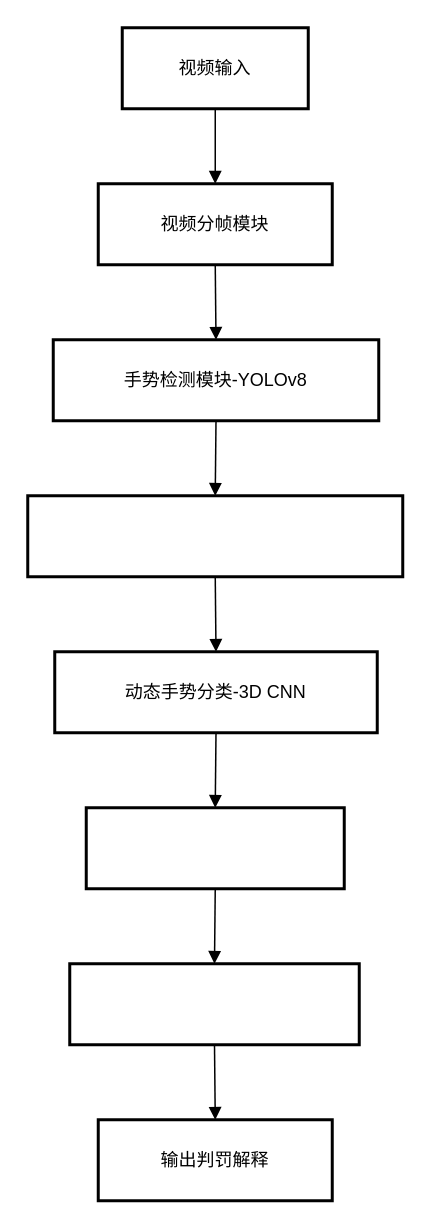
Some shapes in this 429 by 1227 pixel diagram are drawn without their labels. The shapes that lost their labels are listed below. From the top down, each one's centre as x and y in pixels, then its label:
At pixel 215 536: "手部关键点提取-MediaPipe".
At pixel 214 848: "上下文数据融合".
At pixel 214 1004: "DeepSeek语义生成".
